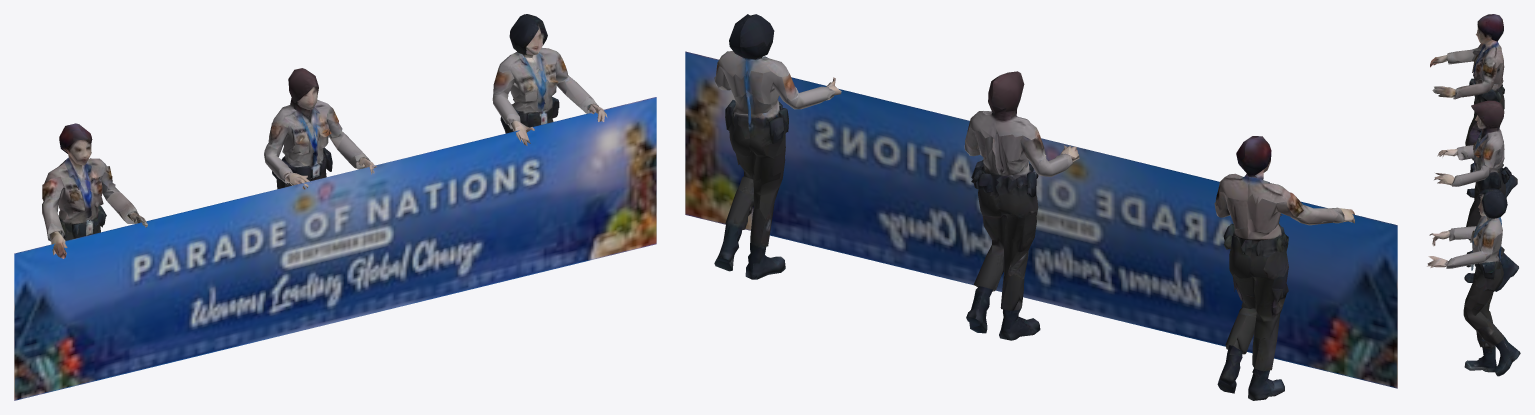
Rendered from parade_spanduk_idle_lod2.glb.
3 views of the same model, side by side, from view 1: azimuth 30°, elevation 25°; view 2: azimuth 150°, elevation 25°; view 3: azimuth 270°, elevation 25° (orthographic). The views are drawn at different scales.
Parts seen in each view (by area): view 1: Banner, tripo_node_3b05fb6a-e37c-495e-9df3-bb58eda6314a, tripo_node_6b0aea05-2d74-4b8d-8741-5d5b342ecb68, tripo_node_a95b814f-aa7f-483a-9577-54b2627dd5a5; view 2: Banner, tripo_node_a95b814f-aa7f-483a-9577-54b2627dd5a5, tripo_node_6b0aea05-2d74-4b8d-8741-5d5b342ecb68, tripo_node_3b05fb6a-e37c-495e-9df3-bb58eda6314a; view 3: tripo_node_3b05fb6a-e37c-495e-9df3-bb58eda6314a, tripo_node_a95b814f-aa7f-483a-9577-54b2627dd5a5, tripo_node_6b0aea05-2d74-4b8d-8741-5d5b342ecb68.
Part boxes in pixels (x1=…): Banner: x1=14, y1=97, x2=656, y2=400; tripo_node_3b05fb6a-e37c-495e-9df3-bb58eda6314a: x1=492, y1=14, x2=607, y2=145; tripo_node_6b0aea05-2d74-4b8d-8741-5d5b342ecb68: x1=42, y1=123, x2=147, y2=258; tripo_node_a95b814f-aa7f-483a-9577-54b2627dd5a5: x1=264, y1=68, x2=376, y2=189; Banner: x1=685, y1=51, x2=1397, y2=388; tripo_node_a95b814f-aa7f-483a-9577-54b2627dd5a5: x1=964, y1=71, x2=1079, y2=340; tripo_node_6b0aea05-2d74-4b8d-8741-5d5b342ecb68: x1=1214, y1=136, x2=1354, y2=400; tripo_node_3b05fb6a-e37c-495e-9df3-bb58eda6314a: x1=714, y1=14, x2=841, y2=279; tripo_node_3b05fb6a-e37c-495e-9df3-bb58eda6314a: x1=1427, y1=188, x2=1520, y2=376; tripo_node_a95b814f-aa7f-483a-9577-54b2627dd5a5: x1=1434, y1=100, x2=1518, y2=291; tripo_node_6b0aea05-2d74-4b8d-8741-5d5b342ecb68: x1=1430, y1=14, x2=1517, y2=197.
Bounding box in the file's own units: 2.84 × 0.9993 × 0.4635.
4 materials, 4 textured.
